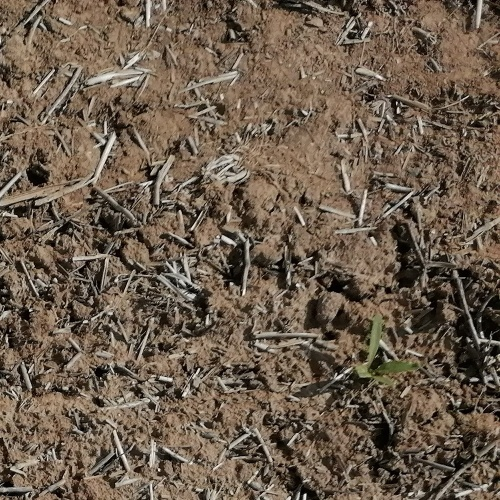beet: (358, 312, 419, 383)
